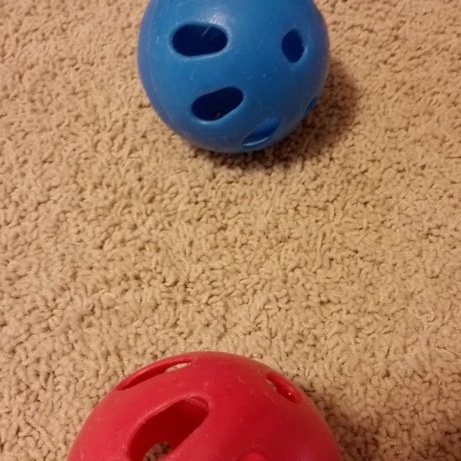ball: (61, 348, 346, 461), (134, 1, 333, 158)
